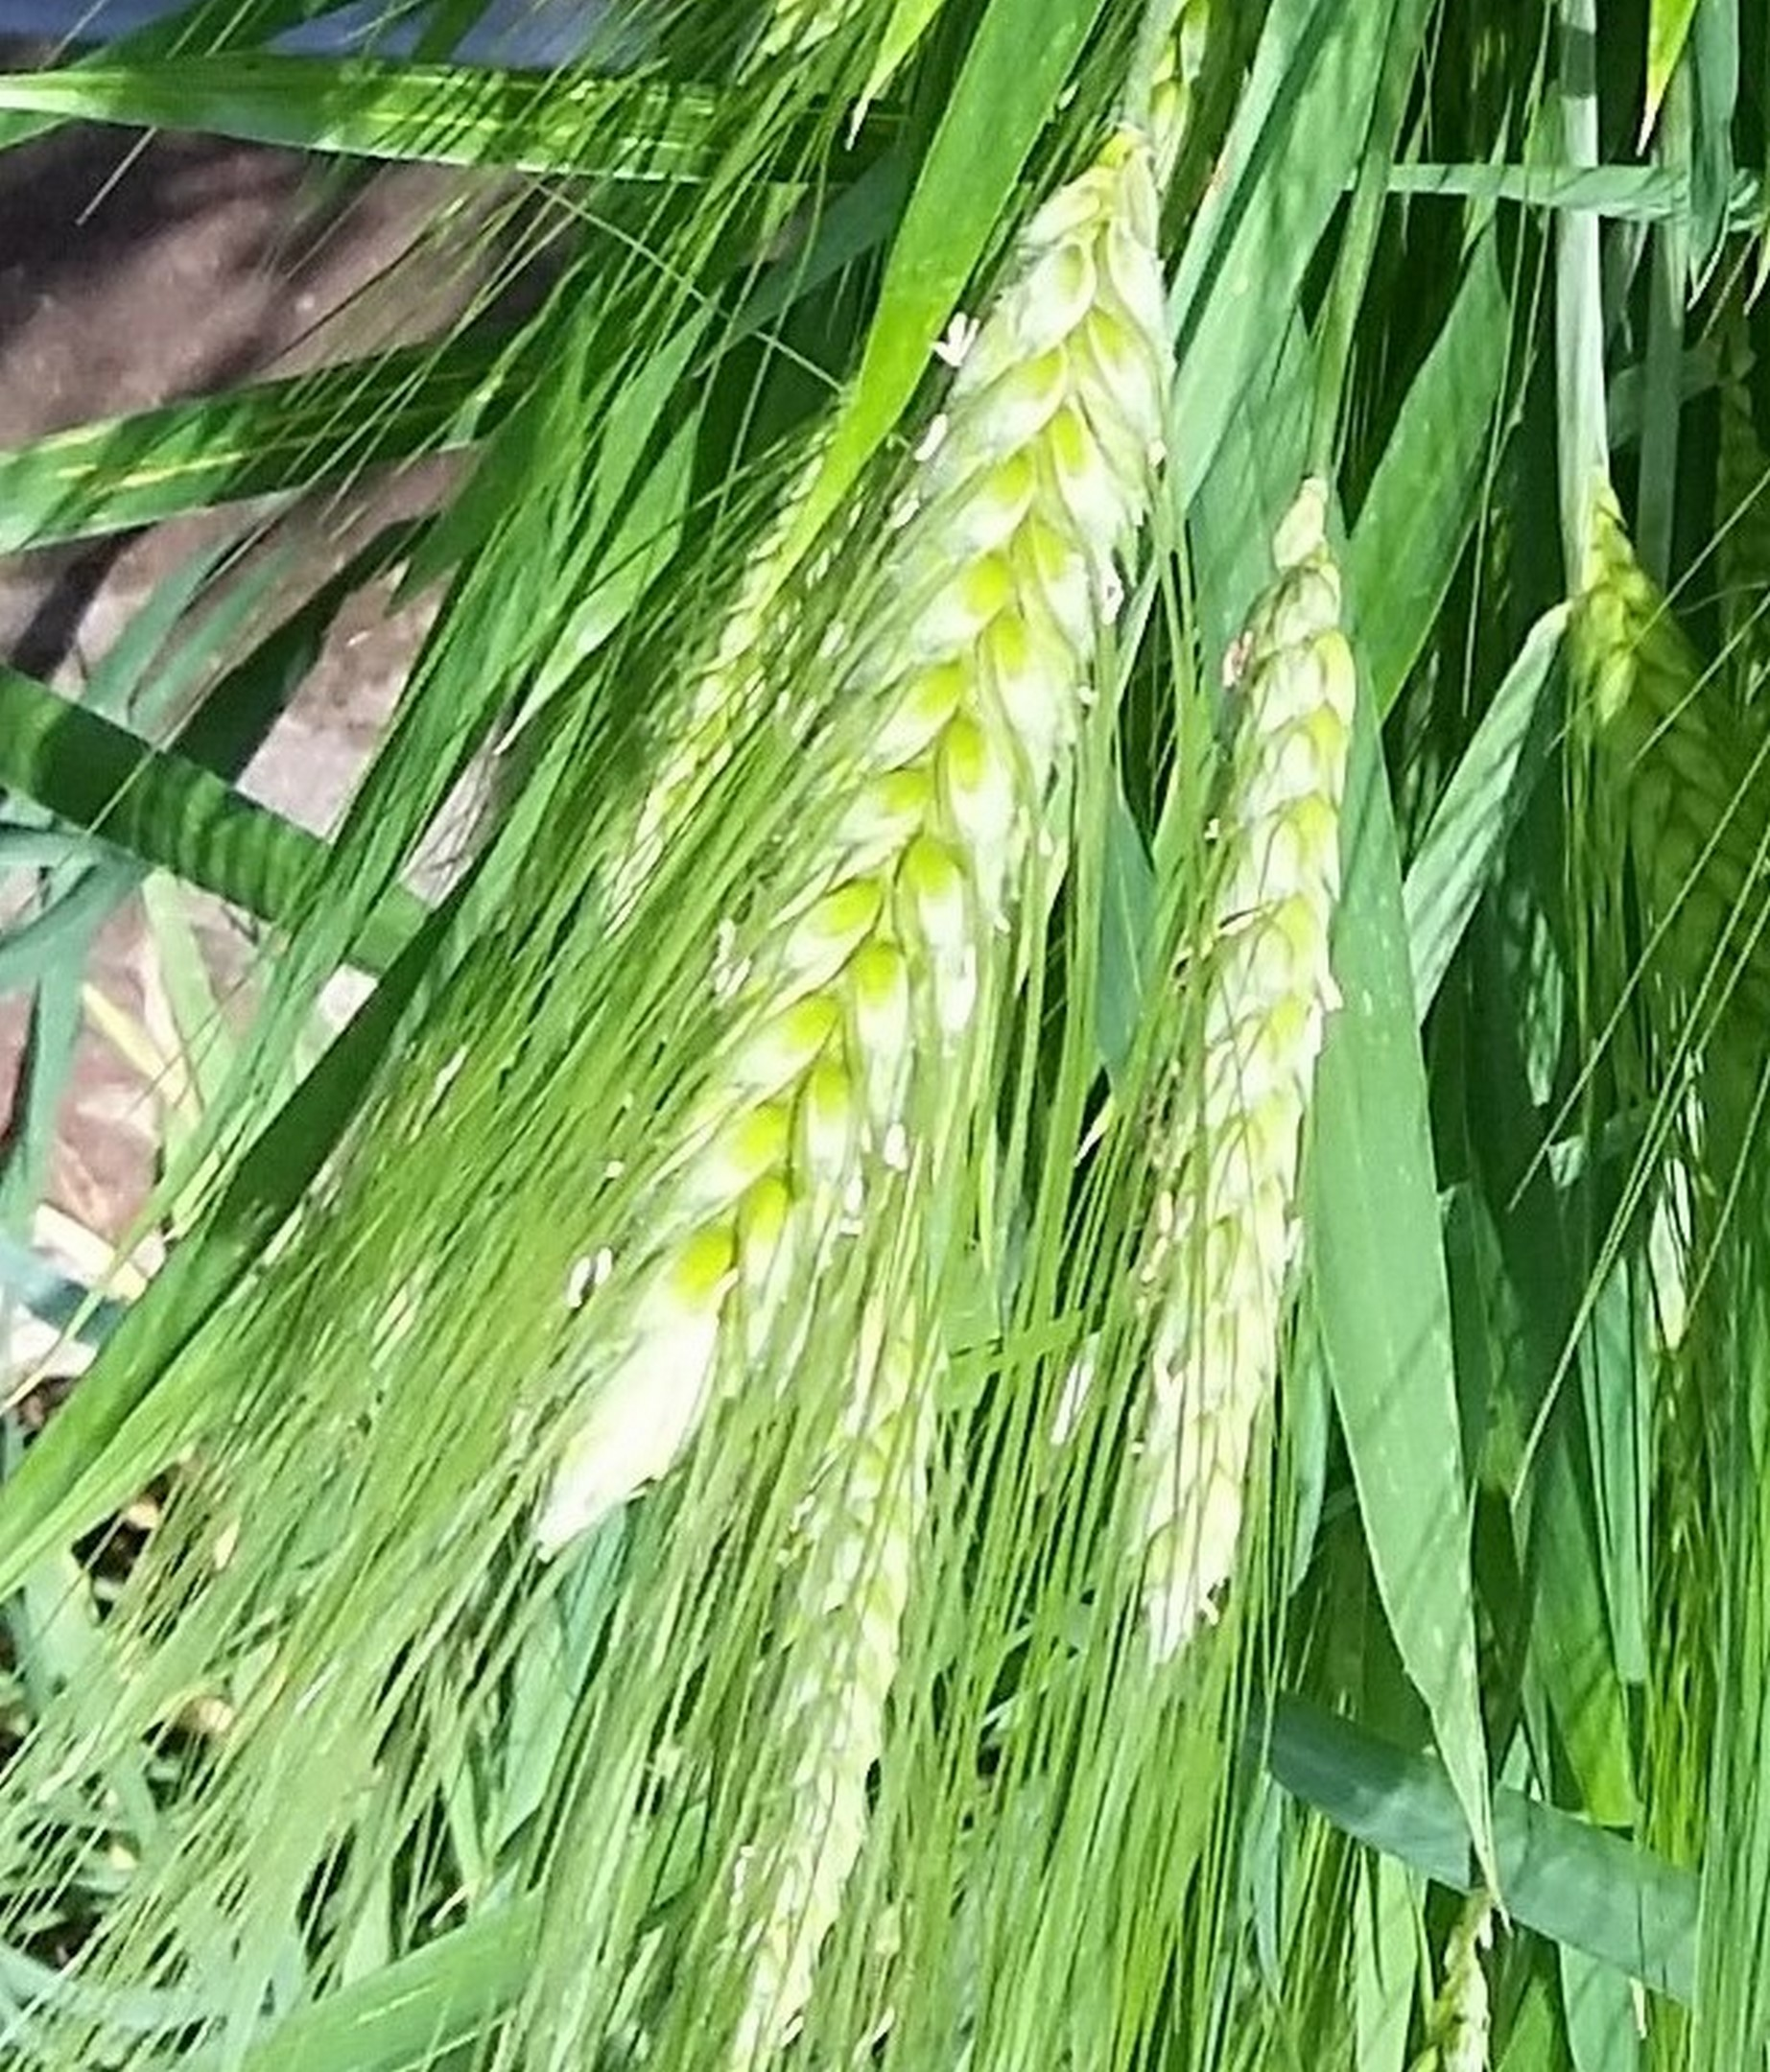Healthy Wheat: (613, 179, 1198, 1368)
